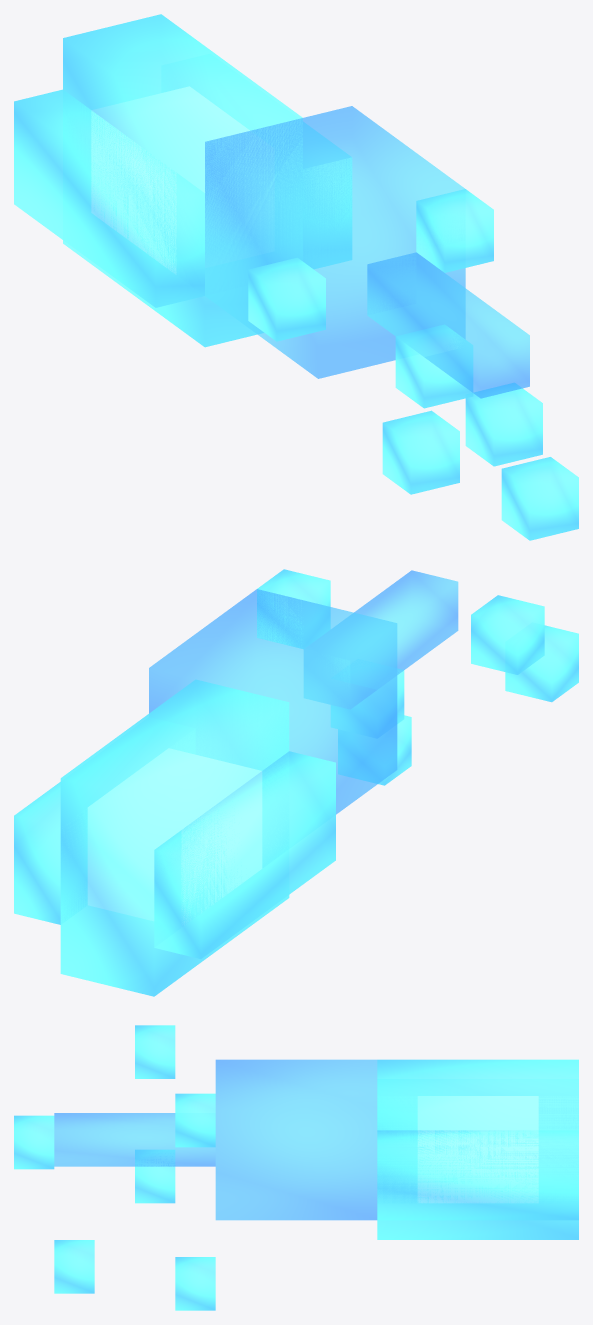
The model's file is plasma-bolt.glb.
3 renders of one model, top to bottom at view 1: azimuth 30°, elevation 25°; view 2: azimuth 150°, elevation 25°; view 3: azimuth 270°, elevation 25°, orthographic. The views are drawn at different scales.
Parts seen in each view (by area): view 1: layer.glow, layer.tail, layer.core; view 2: layer.glow, layer.tail, layer.core; view 3: layer.glow, layer.tail, layer.core.
Part boxes in pixels (left/top/right/bottom): layer.glow: left=14, top=14, right=578, bottom=540; layer.tail: left=205, top=106, right=529, bottom=398; layer.core: left=91, top=86, right=249, bottom=273; layer.glow: left=14, top=569, right=578, bottom=996; layer.tail: left=149, top=570, right=458, bottom=814; layer.core: left=88, top=748, right=261, bottom=922; layer.glow: left=14, top=1025, right=578, bottom=1310; layer.tail: left=54, top=1059, right=377, bottom=1220; layer.core: left=418, top=1096, right=538, bottom=1202.
Size of the model in its own units: 0.1875 by 0.1562 by 0.4375.
